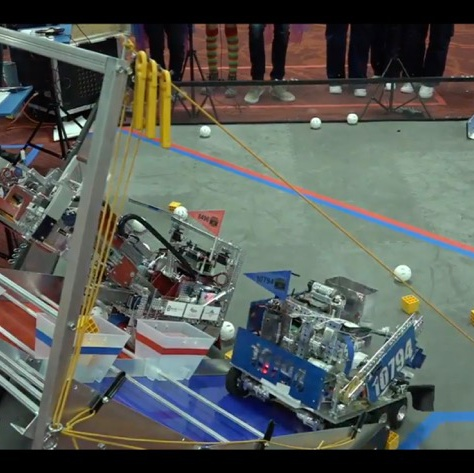robot: (0, 154, 240, 348), (225, 268, 430, 441)
